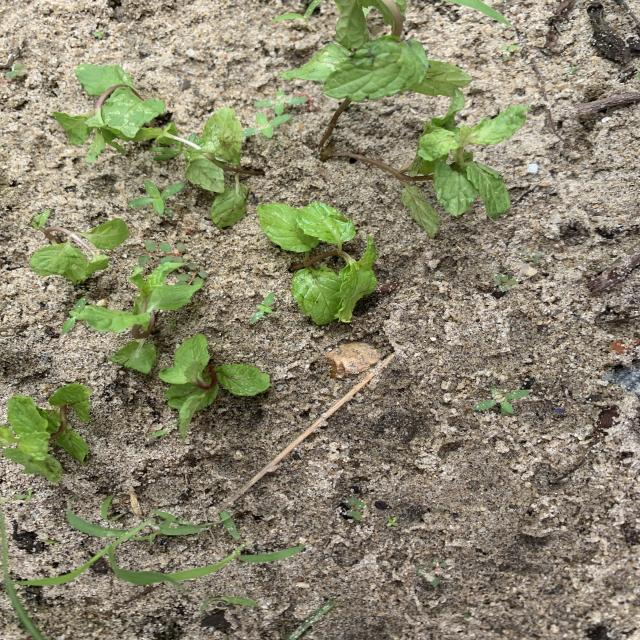crop: (320, 91, 527, 234), (280, 1, 471, 101), (258, 202, 376, 323), (75, 268, 201, 372), (147, 108, 245, 227), (160, 334, 269, 440), (53, 64, 164, 161), (2, 383, 90, 483), (30, 210, 128, 282)
weed: (25, 519, 155, 586), (108, 544, 303, 583), (129, 180, 183, 215), (288, 600, 335, 639), (447, 1, 510, 24), (67, 512, 127, 536), (475, 387, 530, 413), (254, 91, 306, 115), (244, 113, 291, 138), (273, 0, 320, 23), (416, 559, 447, 585), (156, 242, 185, 267), (251, 293, 275, 321), (177, 264, 207, 283), (221, 511, 240, 539), (346, 497, 364, 519), (494, 274, 516, 291), (131, 256, 150, 275), (6, 63, 26, 79), (150, 426, 175, 438), (519, 250, 541, 263), (501, 44, 518, 57), (564, 67, 576, 75), (387, 517, 396, 527), (168, 319, 175, 327)
